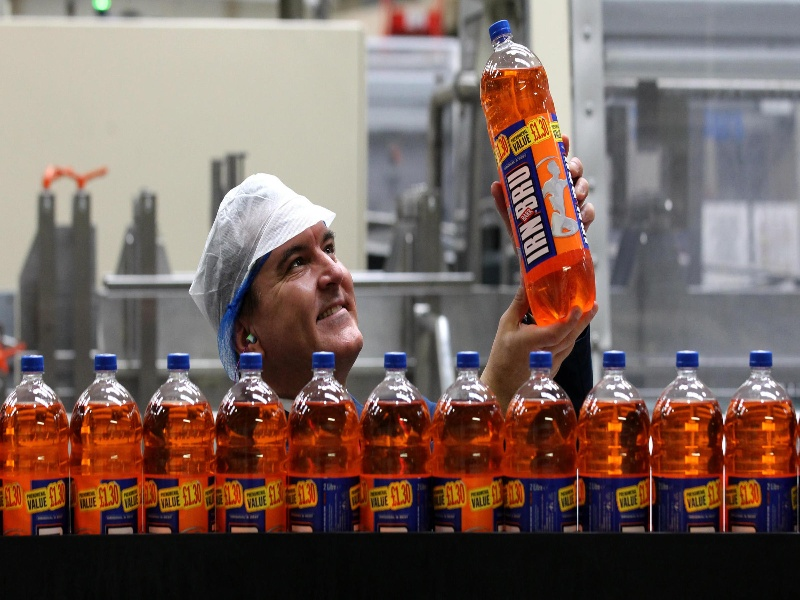Plastic bottle: (435, 10, 617, 348), (208, 338, 319, 554), (260, 328, 365, 522), (119, 341, 226, 527), (52, 351, 163, 528), (408, 329, 506, 517), (344, 330, 442, 514), (487, 335, 579, 518)
